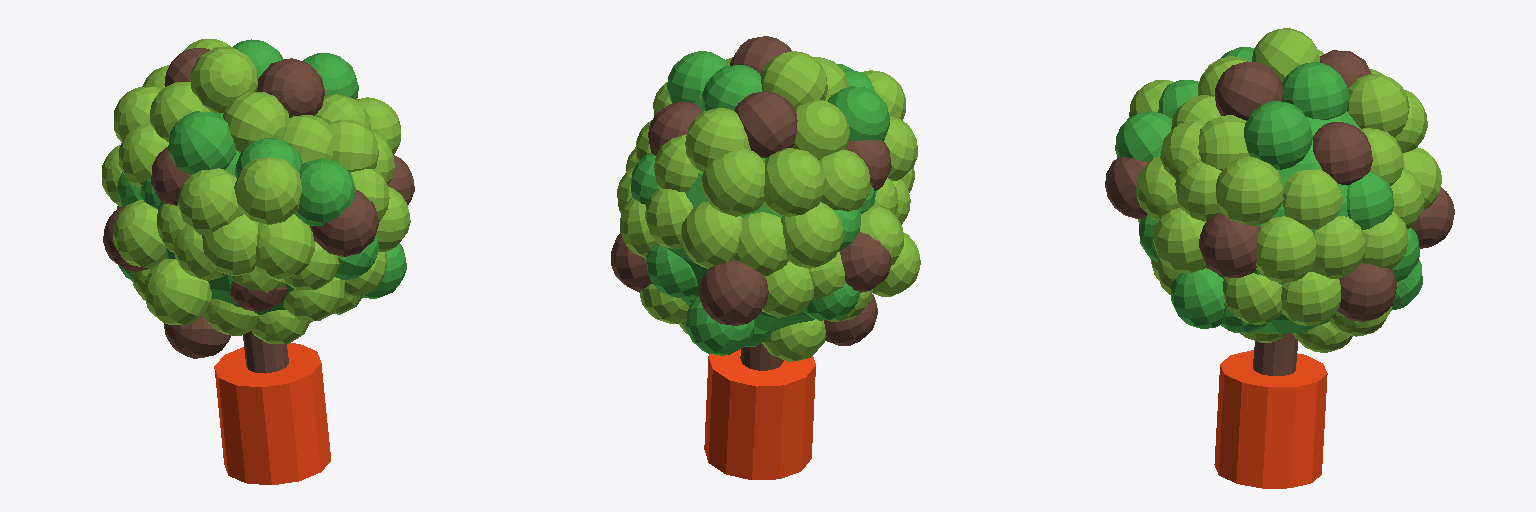
Rendered from model-triangulated.obj.
The picture shows the model from 3 angles: view 1: azimuth 30°, elevation 25°; view 2: azimuth 150°, elevation 25°; view 3: azimuth 270°, elevation 25°; orthographic projection.
Visible parts, largest first — view 1: group[number redacted], group[number redacted], group[number redacted], group[number redacted], group[number redacted], group[number redacted], group[number redacted], group[number redacted], group[number redacted], group[number redacted], group[number redacted], group[number redacted] (+28 smaller); view 2: group[number redacted], group[number redacted], group[number redacted], group[number redacted], group[number redacted], group[number redacted], group[number redacted], group[number redacted], group[number redacted], group[number redacted], group[number redacted], group[number redacted] (+28 smaller); view 3: group[number redacted], group[number redacted], group[number redacted], group[number redacted], group[number redacted], group[number redacted], group[number redacted], group[number redacted], group[number redacted], group[number redacted], group[number redacted], group[number redacted] (+28 smaller).
Part boxes in pixels (x1,y1,x2,y2): group[number redacted]: (214, 343, 330, 484); group[number redacted]: (234, 157, 301, 224); group[number redacted]: (168, 111, 235, 174); group[number redacted]: (144, 259, 211, 324); group[number redacted]: (190, 47, 257, 113); group[number redacted]: (178, 168, 243, 234); group[number redacted]: (294, 158, 355, 225); group[number redacted]: (255, 214, 314, 279); group[number redacted]: (256, 58, 324, 117); group[number redacted]: (223, 92, 289, 152); group[number redacted]: (113, 200, 165, 268); group[number redacted]: (310, 190, 378, 256); group[number redacted]: (704, 349, 815, 479); group[number redacted]: (699, 259, 768, 325); group[number redacted]: (764, 148, 826, 216); group[number redacted]: (702, 149, 764, 216); group[number redacted]: (734, 91, 797, 158); group[number redacted]: (781, 202, 843, 268); group[number redacted]: (681, 202, 742, 268); group[number redacted]: (760, 51, 827, 108); group[number redacted]: (685, 108, 750, 172); group[number redacted]: (792, 100, 849, 159); group[number redacted]: (735, 212, 788, 276); group[number redacted]: (818, 149, 870, 211); group[number redacted]: (1214, 350, 1327, 488); group[number redacted]: (1216, 157, 1283, 225); group[number redacted]: (1244, 101, 1312, 169); group[number redacted]: (1256, 216, 1315, 282); group[number redacted]: (1199, 212, 1258, 277); group[number redacted]: (1347, 74, 1409, 137); group[number redacted]: (1282, 62, 1348, 119); group[number redacted]: (1313, 122, 1372, 185); group[number redacted]: (1215, 61, 1283, 120); group[number redacted]: (1283, 169, 1342, 228); group[number redacted]: (1337, 263, 1396, 321); group[number redacted]: (1171, 268, 1224, 328).
Bounding box in the file's own units: 0.5787 × 0.8589 × 0.6469.